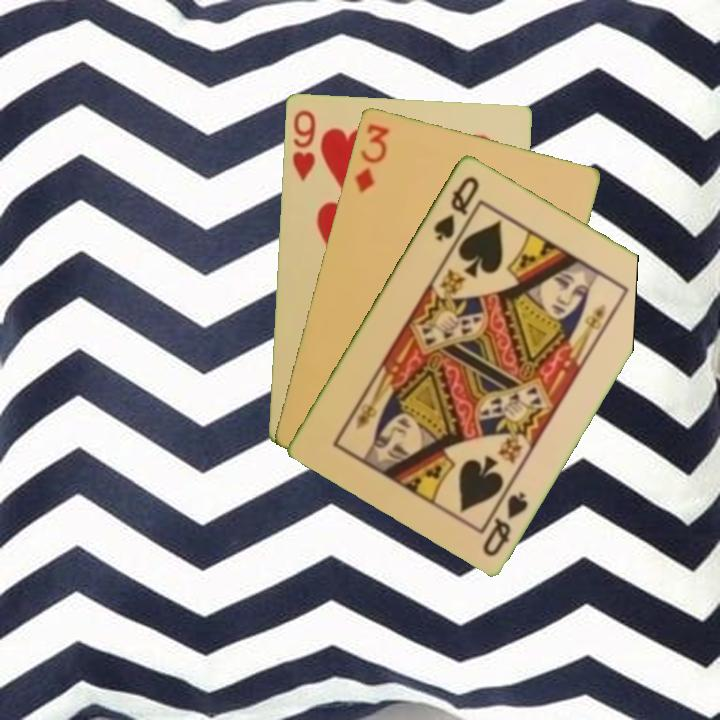3d: (351, 120, 392, 195)
9h: (288, 106, 319, 184)
Qs: (477, 479, 531, 559), (429, 172, 482, 244)
